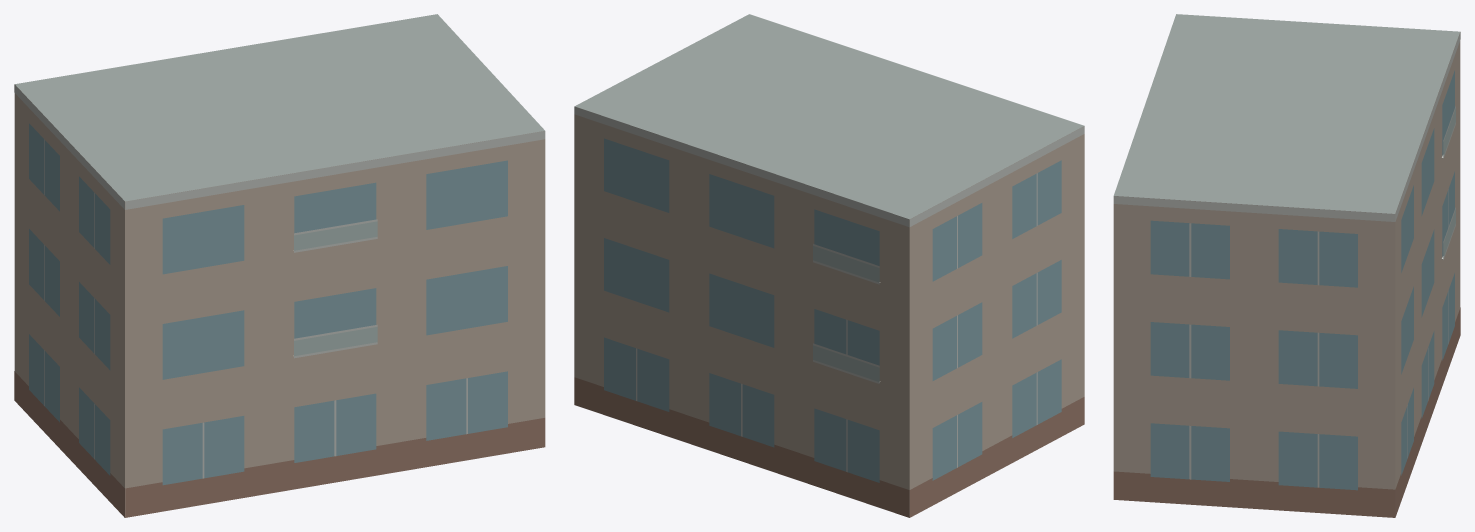
The model's file is survey-upis-32807173.glb.
The picture shows the model from 3 angles, left to right: view 1: azimuth 30°, elevation 25°; view 2: azimuth 150°, elevation 25°; view 3: azimuth 270°, elevation 25°; orthographic projection. The views are drawn at different scales.
Parts seen in each view (by area): view 1: survey-upis-32807173.tmp; view 2: survey-upis-32807173.tmp; view 3: survey-upis-32807173.tmp.
Boxes of the visible parts, x1,y1,x2,y2 form: survey-upis-32807173.tmp: [14, 14, 545, 517]; survey-upis-32807173.tmp: [574, 14, 1084, 517]; survey-upis-32807173.tmp: [1113, 14, 1460, 517].
Size of the model in its own units: 12.92 by 9.15 by 9.47.
